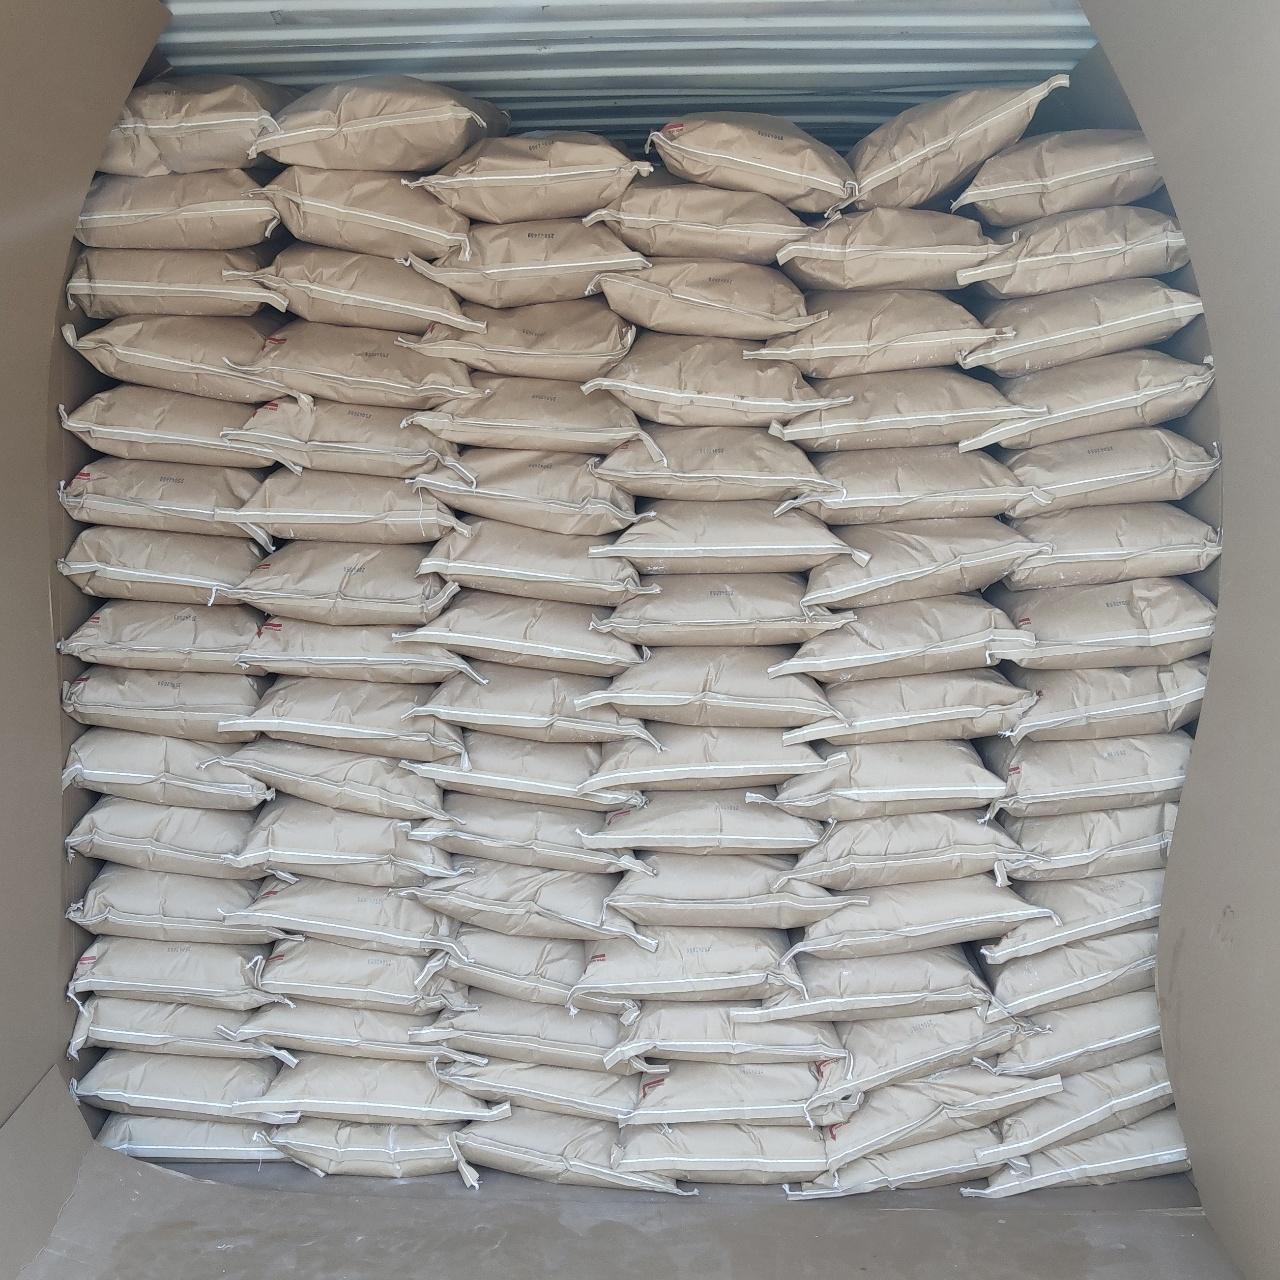sack: (846, 76, 1062, 206), (808, 1000, 1037, 1111), (824, 1064, 1058, 1170), (962, 348, 1212, 446), (254, 76, 508, 170), (223, 243, 482, 334), (962, 278, 1198, 374), (772, 368, 1044, 450), (415, 925, 639, 1024), (772, 594, 1034, 678), (411, 987, 661, 1075), (586, 330, 824, 422), (806, 518, 1048, 608), (400, 856, 648, 942), (414, 132, 648, 222), (748, 290, 998, 374), (230, 320, 472, 406), (406, 590, 644, 676), (64, 316, 306, 400), (454, 1108, 690, 1194), (650, 114, 856, 212), (238, 794, 456, 886), (762, 740, 1012, 820), (574, 648, 830, 726), (796, 876, 1044, 956), (408, 220, 644, 304), (962, 206, 1186, 294), (964, 1108, 1188, 1196), (420, 518, 648, 604), (1006, 426, 1216, 518), (736, 946, 988, 1022), (992, 578, 1214, 664), (586, 176, 808, 262), (62, 456, 274, 546), (780, 810, 1024, 888), (402, 298, 634, 380), (262, 168, 468, 260), (952, 130, 1158, 222), (230, 398, 466, 478), (1006, 502, 1220, 590), (416, 448, 634, 534), (222, 542, 456, 622), (787, 1122, 1027, 1200), (408, 792, 646, 870), (224, 678, 456, 758), (996, 1052, 1174, 1156), (224, 738, 444, 822), (102, 76, 290, 174), (416, 662, 646, 742), (778, 446, 1020, 522), (68, 796, 292, 878), (980, 732, 1188, 820), (402, 732, 642, 808), (224, 878, 456, 956), (242, 1052, 508, 1120), (414, 374, 640, 454), (596, 424, 832, 500), (786, 670, 1034, 742), (62, 384, 274, 468), (998, 658, 1204, 744), (602, 500, 848, 572), (608, 854, 854, 926), (594, 574, 846, 644), (778, 210, 1002, 288), (978, 870, 1162, 964), (592, 258, 808, 338), (70, 864, 286, 944), (586, 724, 834, 792), (252, 938, 470, 1014), (232, 470, 462, 542), (64, 728, 274, 806), (72, 1050, 294, 1122), (576, 926, 798, 998), (984, 930, 1156, 1022), (605, 1001, 841, 1067), (76, 170, 280, 246), (582, 790, 824, 854), (978, 990, 1158, 1076), (264, 1118, 478, 1190), (228, 1002, 482, 1062), (62, 666, 262, 742), (242, 618, 478, 682), (624, 1062, 860, 1126), (60, 526, 264, 600), (70, 996, 294, 1062), (70, 936, 278, 1006), (68, 250, 282, 318), (60, 600, 262, 670), (996, 804, 1174, 880), (434, 1058, 646, 1120), (616, 1122, 826, 1182), (96, 1114, 294, 1164)
